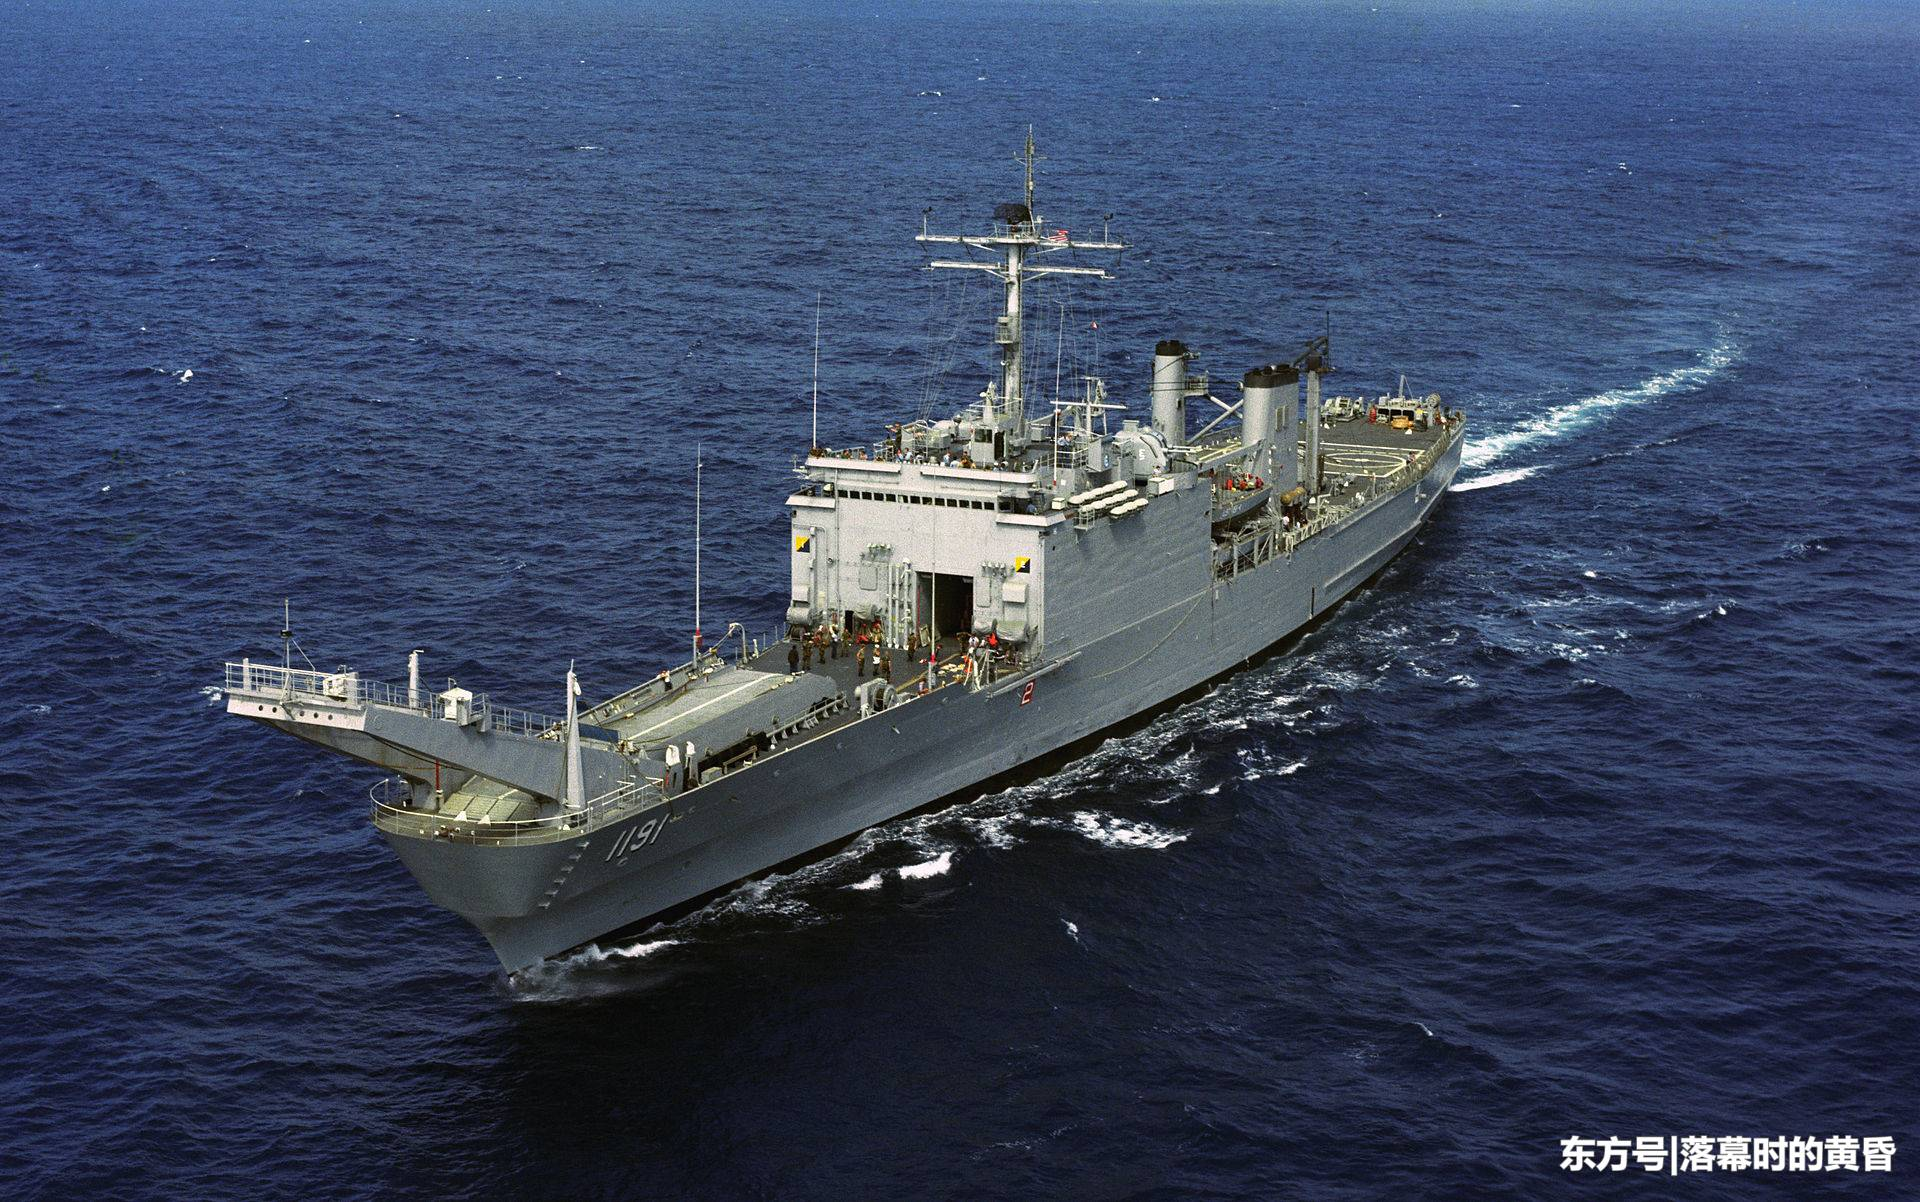warship: (205, 180, 1467, 962)
